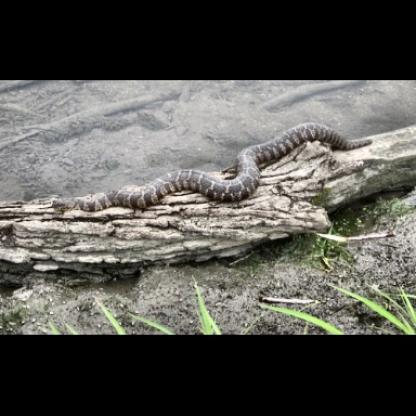Snake: (9, 116, 416, 232)
